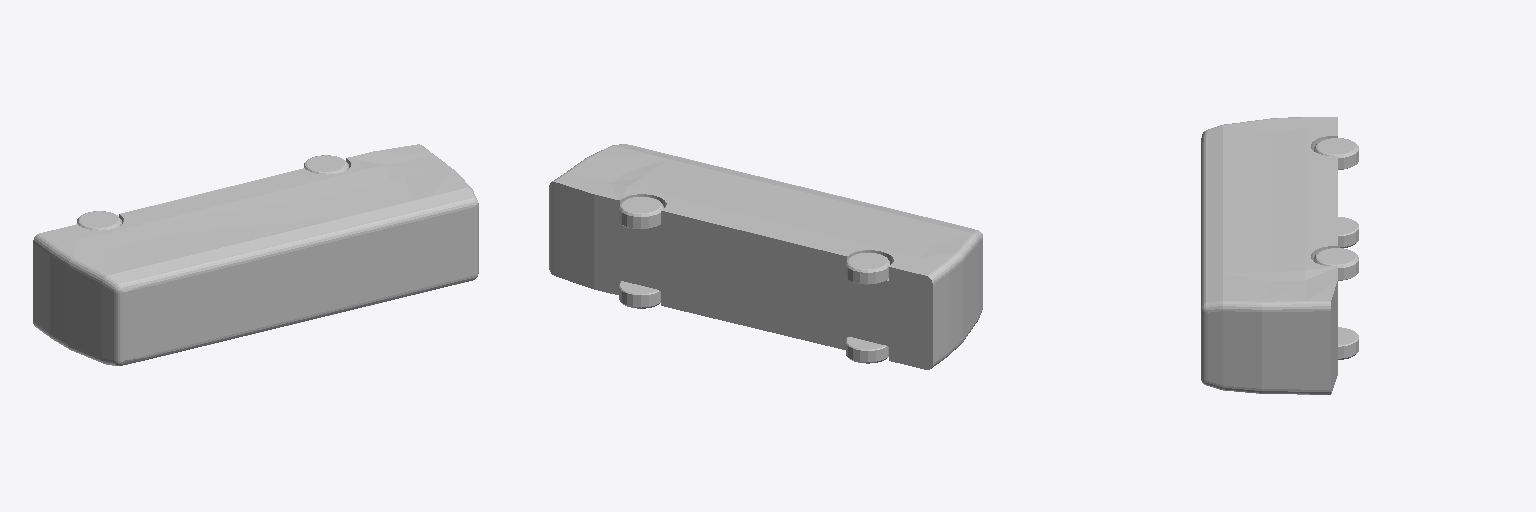
File: bus.obj
The picture shows the model from 3 angles: view 1: azimuth 30°, elevation 25°; view 2: azimuth 150°, elevation 25°; view 3: azimuth 270°, elevation 25°; orthographic projection.
Visible parts, largest first — view 1: Bus01; view 2: Bus01; view 3: Bus01.
Part boxes in pixels (left/top/right/bottom): Bus01: left=33, top=144, right=478, bottom=365; Bus01: left=549, top=144, right=982, bottom=369; Bus01: left=1201, top=117, right=1358, bottom=394.
Size of the model in its own units: 1044 by 245 by 369.